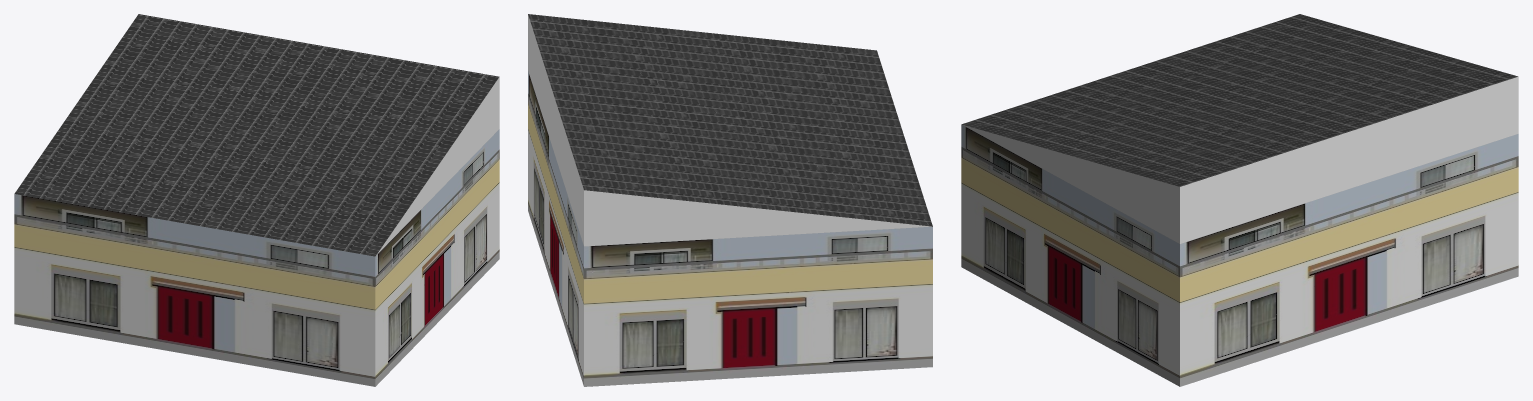
3 views of the same model, side by side, from view 1: azimuth 30°, elevation 25°; view 2: azimuth 150°, elevation 25°; view 3: azimuth 270°, elevation 25° (orthographic). The views are drawn at different scales.
Visible parts, largest first — view 1: CityEngineMaterial_16_m, CityEngineMaterial_15_m, CityEngineMaterial_3_m; view 2: CityEngineMaterial_16_m, CityEngineMaterial_15_m, CityEngineMaterial_3_m; view 3: CityEngineMaterial_15_m, CityEngineMaterial_16_m, CityEngineMaterial_3_m.
Boxes of the visible parts, x1,y1,x2,y2 form: CityEngineMaterial_16_m: [14, 14, 499, 256]; CityEngineMaterial_15_m: [14, 129, 499, 386]; CityEngineMaterial_3_m: [376, 77, 499, 255]; CityEngineMaterial_16_m: [528, 14, 932, 226]; CityEngineMaterial_15_m: [528, 71, 932, 386]; CityEngineMaterial_3_m: [528, 15, 931, 246]; CityEngineMaterial_15_m: [961, 124, 1518, 386]; CityEngineMaterial_16_m: [962, 14, 1517, 186]; CityEngineMaterial_3_m: [962, 76, 1518, 243].
Bounding box in the file's own units: 28.69 × 11.63 × 29.35.
